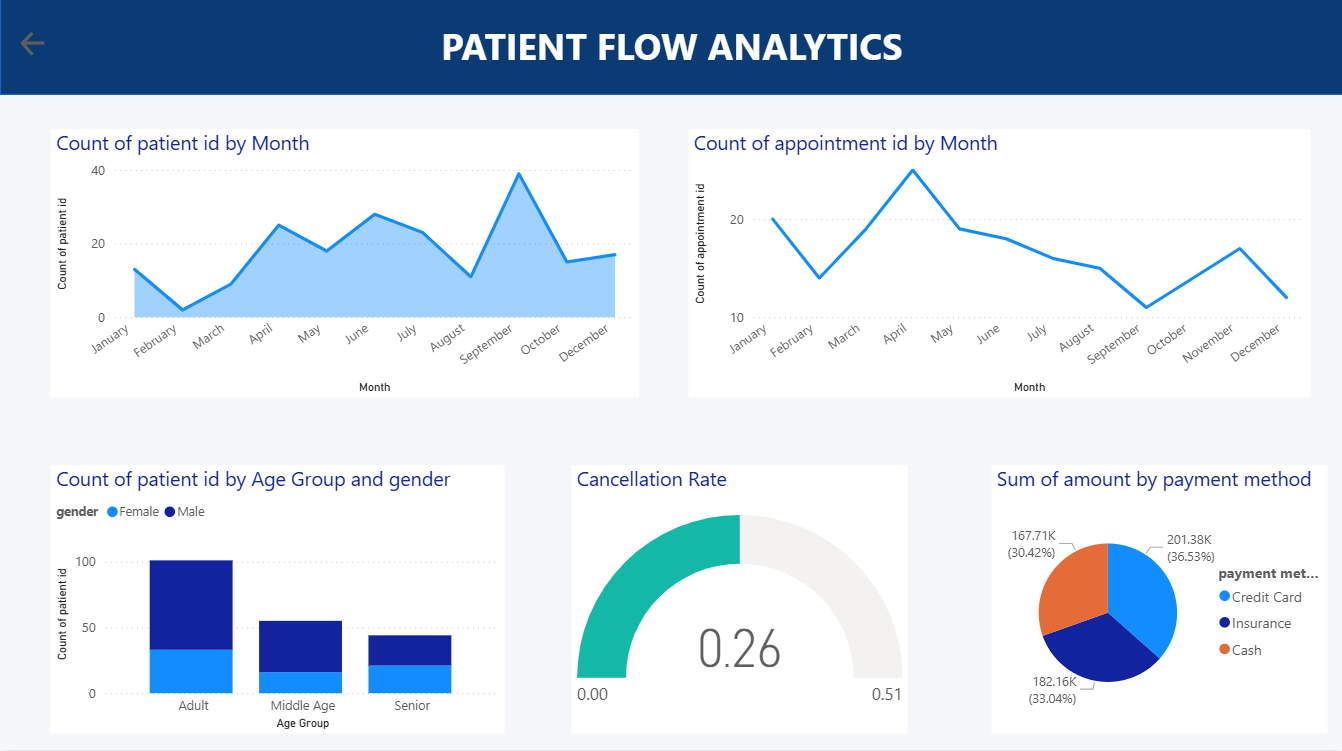

What the dashboard file says about the page in this screenshot:
{"tool":"powerbi","page":{"name":"PATIENT FLOW ANALYTICS","canvas":[1280,720],"ordinal":2},"visuals":[{"type":"areaChart","fields":{"Y":["CountNonNull(cleaned_appointments.patient id)"],"Category":["cleaned_patients.registration date.Variation.Date Hierarchy.Month"]},"box":[48,128,560,256],"z":0},{"type":"lineChart","fields":{"Category":["cleaned_appointments.appointment date.Variation.Date Hierarchy.Month"],"Y":["CountNonNull(cleaned_appointments.appointment id)"]},"box":[656,128,592,256],"z":1000},{"type":"columnChart","fields":{"Series":["cleaned_patients.gender"],"Category":["cleaned_patients.Age Group"],"Y":["CountNonNull(cleaned_billing.patient id)"]},"box":[48,448,432,256],"z":2000},{"type":"gauge","fields":{"Y":["cleaned_appointments.Cancellation Rate"]},"box":[544,448,320,256],"z":3000},{"type":"pieChart","fields":{"Category":["cleaned_billing.payment method"],"Y":["Sum(cleaned_billing.amount)"]},"box":[944,448,320,256],"z":4000},{"type":"shape","box":[0,0,1280,96],"z":5000},{"type":"actionButton","box":[16,32,48,32],"z":5001}]}

Visuals, with their boxes in screenshot pixels (x1, y1, x2, y2), scaled from the page's 1280x720 canvas onto the 1342x751 screenshot:
areaChart - CountNonNull(cleaned_appointments.patient id) x cleaned_patients.registration date.Variation.Date Hierarchy.Month: x1=50, y1=134, x2=637, y2=401
lineChart - cleaned_appointments.appointment date.Variation.Date Hierarchy.Month x CountNonNull(cleaned_appointments.appointment id): x1=688, y1=134, x2=1308, y2=401
columnChart - cleaned_patients.gender x cleaned_patients.Age Group: x1=50, y1=467, x2=503, y2=734
gauge - cleaned_appointments.Cancellation Rate: x1=570, y1=467, x2=906, y2=734
pieChart - cleaned_billing.payment method x Sum(cleaned_billing.amount): x1=990, y1=467, x2=1325, y2=734
shape: x1=0, y1=0, x2=1341, y2=100
actionButton: x1=17, y1=33, x2=67, y2=67
